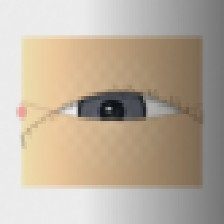pinguecula_lesion: (22, 105, 62, 137)
